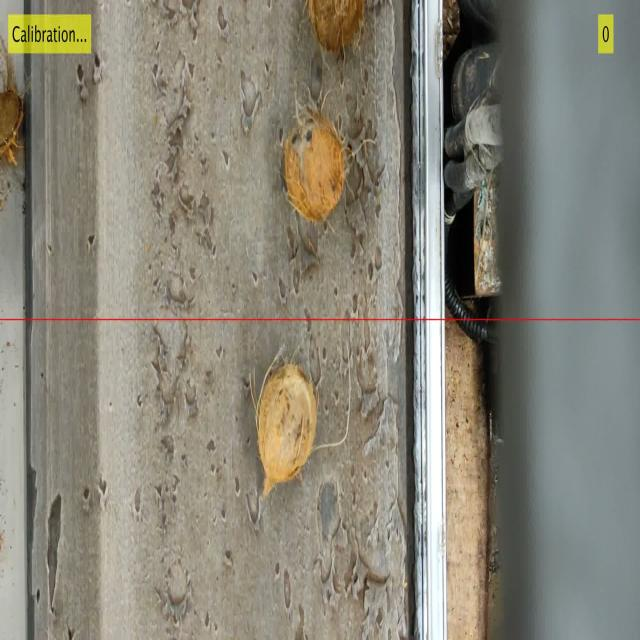Coconut-Conveyor-Belt: (252, 350, 321, 502), (282, 110, 346, 223), (303, 0, 370, 59)
